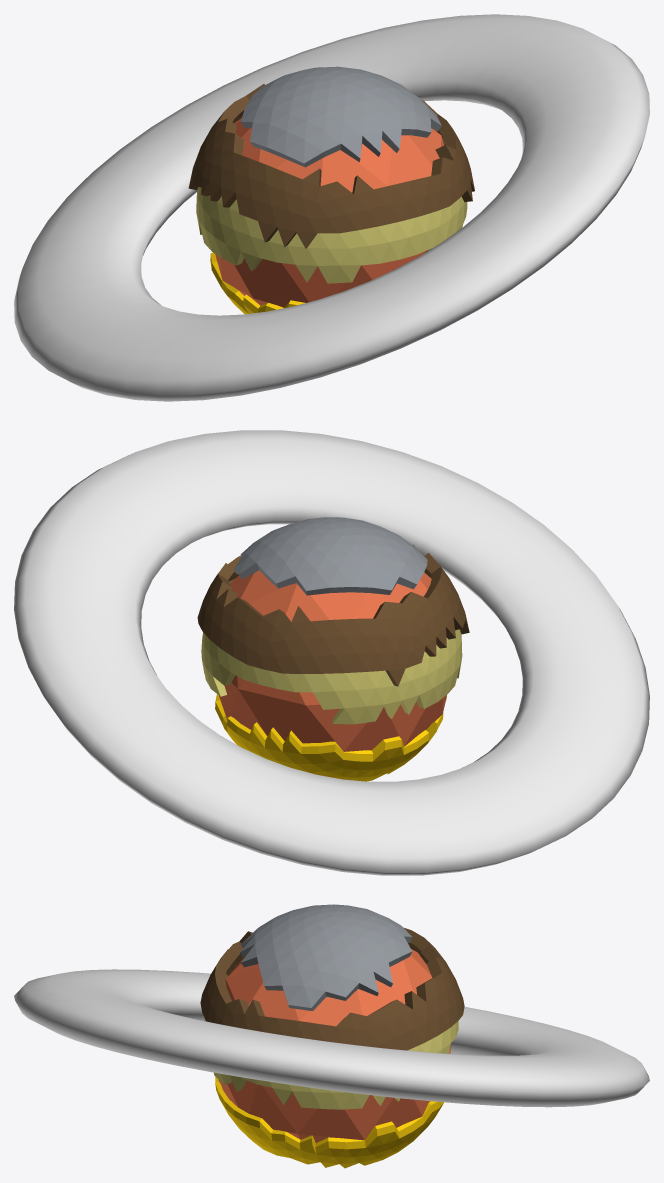
File: planet-1.glb
3 views of the same model, one above another, from view 1: azimuth 30°, elevation 25°; view 2: azimuth 150°, elevation 25°; view 3: azimuth 270°, elevation 25° (orthographic). The views are drawn at different scales.
Visible parts, largest first — view 1: Icosphere.021_Clouds.002_0; view 2: Icosphere.021_Clouds.002_0; view 3: Icosphere.021_Clouds.002_0.
Boxes of the visible parts, x1,y1,x2,y2 form: Icosphere.021_Clouds.002_0: (14,14,649,401); Icosphere.021_Clouds.002_0: (14,430,649,875); Icosphere.021_Clouds.002_0: (14,904,649,1168).
Size of the model in its own units: 4.74 by 2.03 by 4.96.
1 material, 1 textured.
